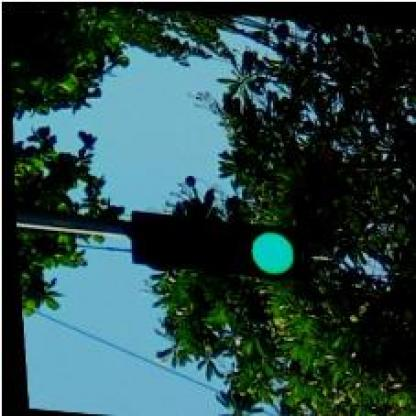green: (125, 208, 304, 283)
